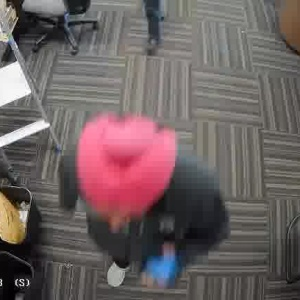person: (93, 123, 197, 285)
